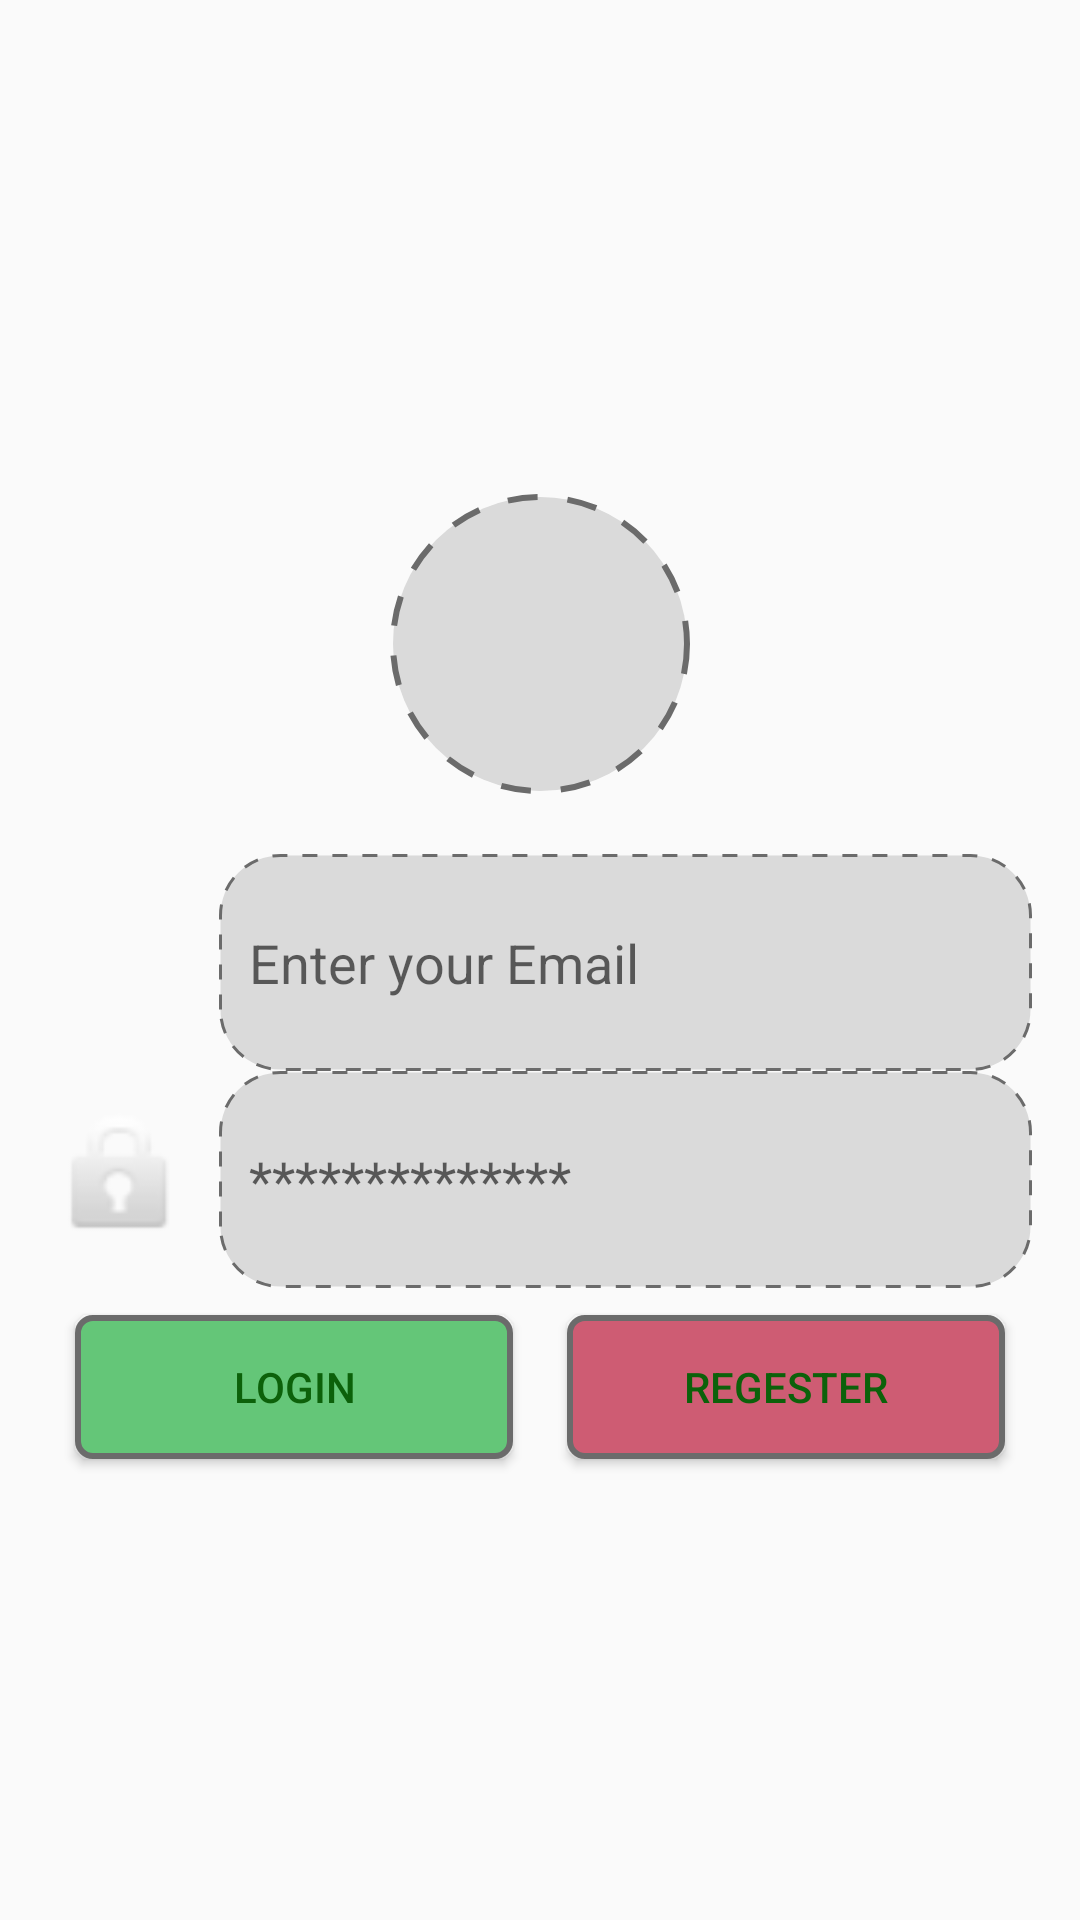

Icon click points for this 1080w x 1920h phone screenshot, format (x,y):
lock idle: (119,1198)
